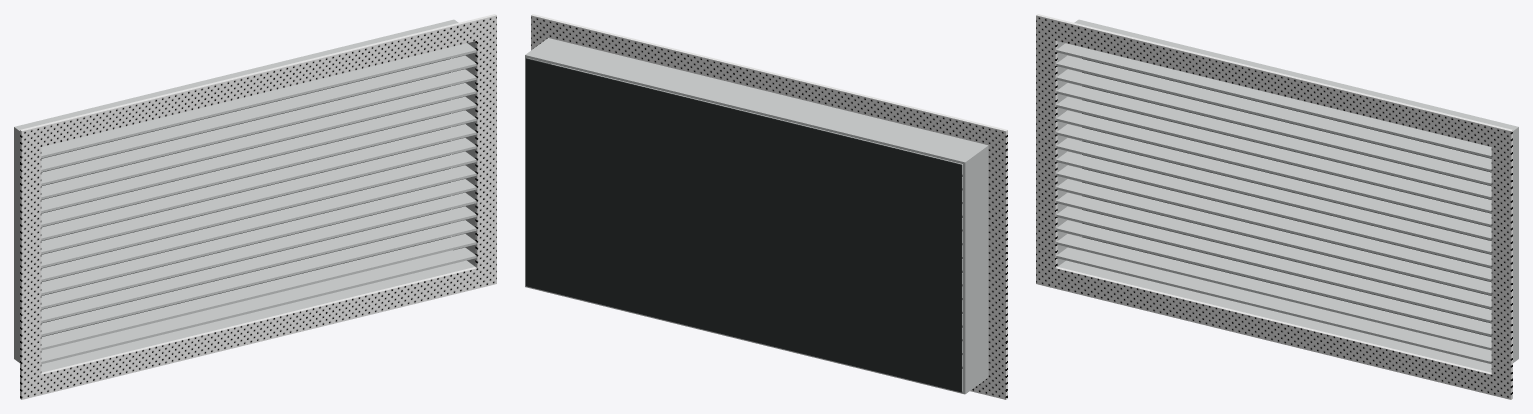
Rendered from ecoclima-ebls-400x200.glb.
3 renders of one model, left to right at view 1: azimuth 30°, elevation 25°; view 2: azimuth 150°, elevation 25°; view 3: azimuth 330°, elevation 25°, orthographic.
Visible parts, largest first — view 1: Profile_cornice.004, Profile_cornice.005, Profile_barra.014, Profile_barra.020, Profile_barra.015, Profile_barra.016, Profile_barra.021, Profile_barra.023, Profile_barra.024, Profile_barra.010, Profile_barra.012, Profile_barra.022 (+13 smaller); view 2: Interno.001, Profile_ritorno.004, Profile_cornice.004, Profile_ritorno.006, Profile_cornice.006, Profile_ritorno.005, Profile_cornice.005, Profile_barra.024; view 3: Profile_cornice.004, Profile_cornice.005, Profile_barra.014, Profile_barra.020, Profile_barra.015, Profile_barra.016, Profile_barra.021, Profile_barra.023, Profile_barra.024, Profile_barra.010, Profile_barra.012, Profile_barra.022 (+13 smaller).
Boxes of the visible parts, x1=… form: Profile_cornice.004: x1=20, y1=14, x2=496, y2=151; Profile_cornice.005: x1=20, y1=263, x2=496, y2=399; Profile_barra.014: x1=41, y1=192, x2=476, y2=309; Profile_barra.020: x1=41, y1=110, x2=476, y2=226; Profile_barra.015: x1=41, y1=179, x2=476, y2=295; Profile_barra.016: x1=41, y1=165, x2=476, y2=281; Profile_barra.021: x1=41, y1=96, x2=476, y2=213; Profile_barra.023: x1=41, y1=69, x2=476, y2=185; Profile_barra.024: x1=41, y1=55, x2=476, y2=171; Profile_barra.010: x1=41, y1=247, x2=476, y2=364; Profile_barra.012: x1=41, y1=220, x2=476, y2=336; Profile_barra.022: x1=41, y1=83, x2=476, y2=199; Interno.001: x1=526, y1=58, x2=962, y2=392; Profile_ritorno.004: x1=525, y1=38, x2=988, y2=164; Profile_cornice.004: x1=531, y1=14, x2=1007, y2=151; Profile_ritorno.006: x1=963, y1=148, x2=988, y2=391; Profile_cornice.006: x1=988, y1=148, x2=1007, y2=379; Profile_ritorno.005: x1=525, y1=285, x2=988, y2=394; Profile_cornice.005: x1=970, y1=375, x2=1007, y2=399; Profile_barra.024: x1=551, y1=63, x2=962, y2=176; Profile_cornice.004: x1=1036, y1=14, x2=1512, y2=151; Profile_cornice.005: x1=1036, y1=263, x2=1512, y2=399; Profile_barra.014: x1=1056, y1=192, x2=1491, y2=309; Profile_barra.020: x1=1056, y1=110, x2=1491, y2=226; Profile_barra.015: x1=1056, y1=179, x2=1491, y2=295; Profile_barra.016: x1=1056, y1=165, x2=1491, y2=281; Profile_barra.021: x1=1056, y1=96, x2=1491, y2=213; Profile_barra.023: x1=1056, y1=69, x2=1491, y2=185; Profile_barra.024: x1=1056, y1=55, x2=1491, y2=171; Profile_barra.010: x1=1056, y1=247, x2=1491, y2=364; Profile_barra.012: x1=1056, y1=220, x2=1491, y2=336; Profile_barra.022: x1=1056, y1=83, x2=1491, y2=199.
Bounding box in the file's own units: 0.435 × 0.235 × 0.042.
Materials: 3 (1 with a texture image).
